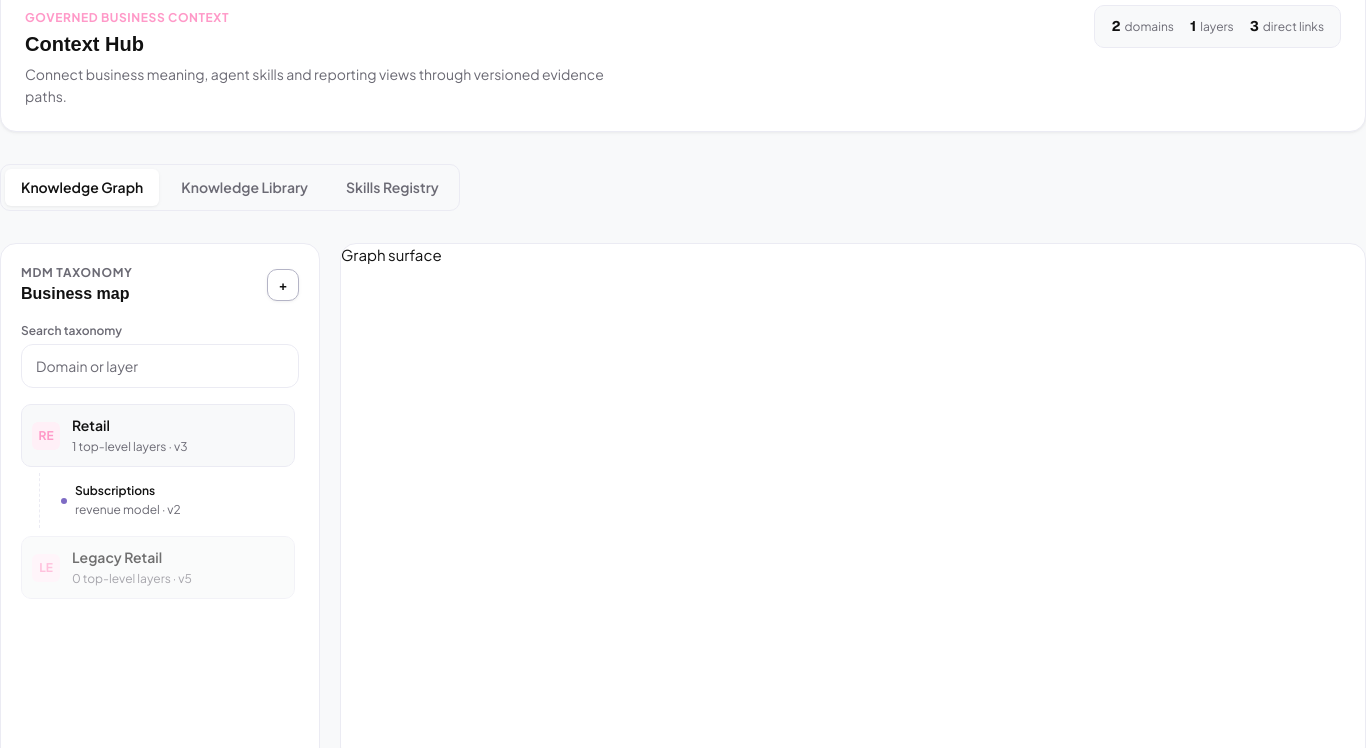
it: a refused link is reported as a refusal to overwrite, not as a failure to save
The width and height of the screenshot is (1366, 748).
Click the button "RE Retail 1 top-level layers · v3": coordinates (91, 425) [21, 404, 295, 467]
(page scrolled)
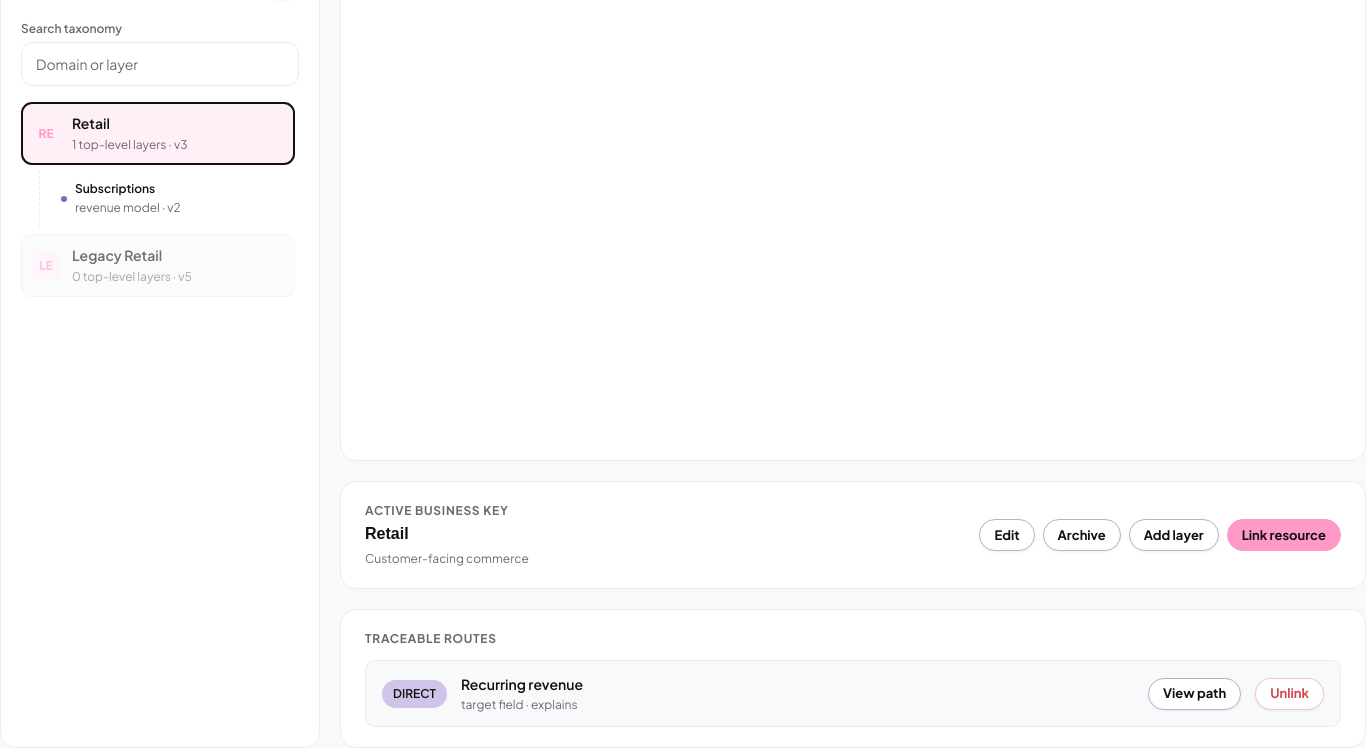
Click the button "Link resource": coordinates (1284, 535) [1227, 519, 1341, 551]
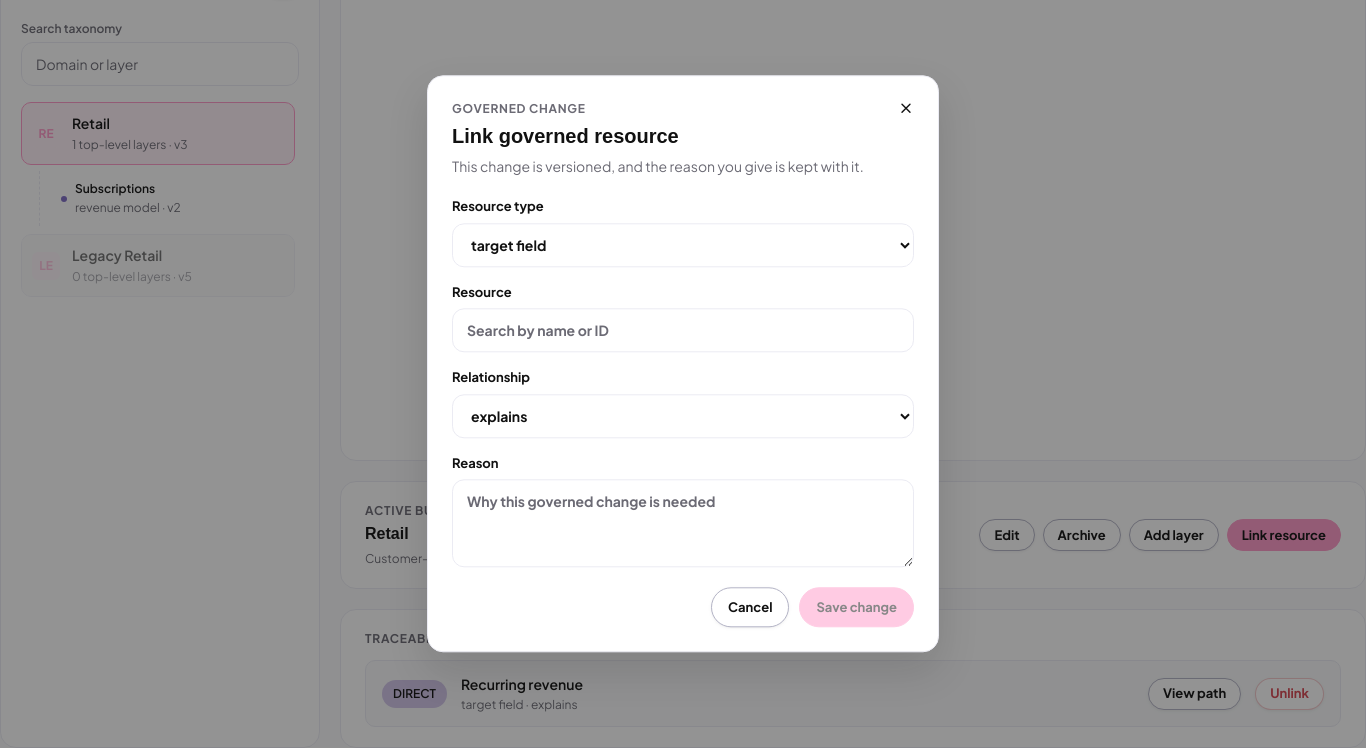
In the field labelled "Resource": coordinates (683, 331) [452, 309, 914, 353], type "recurring_revenue"
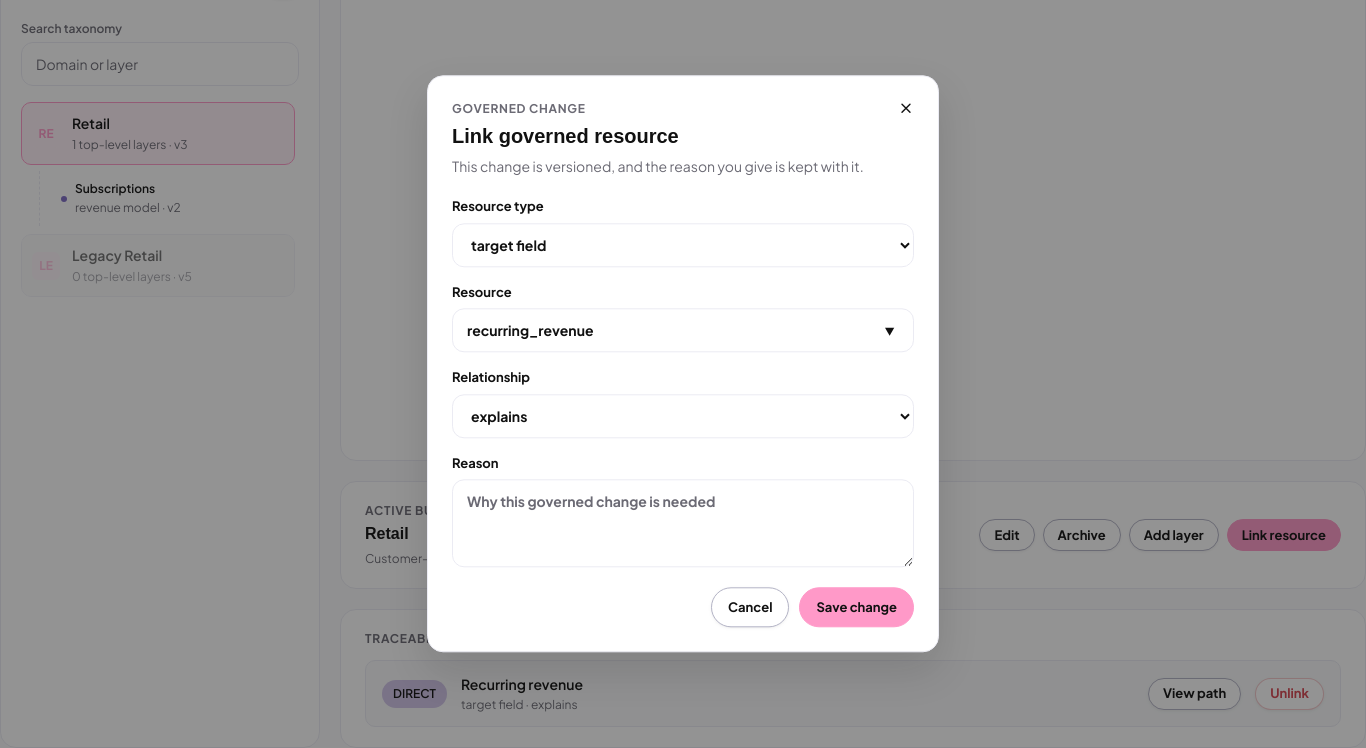
In the text box labelled "Reason": coordinates (683, 524) [452, 480, 914, 568], type "It explains this field"
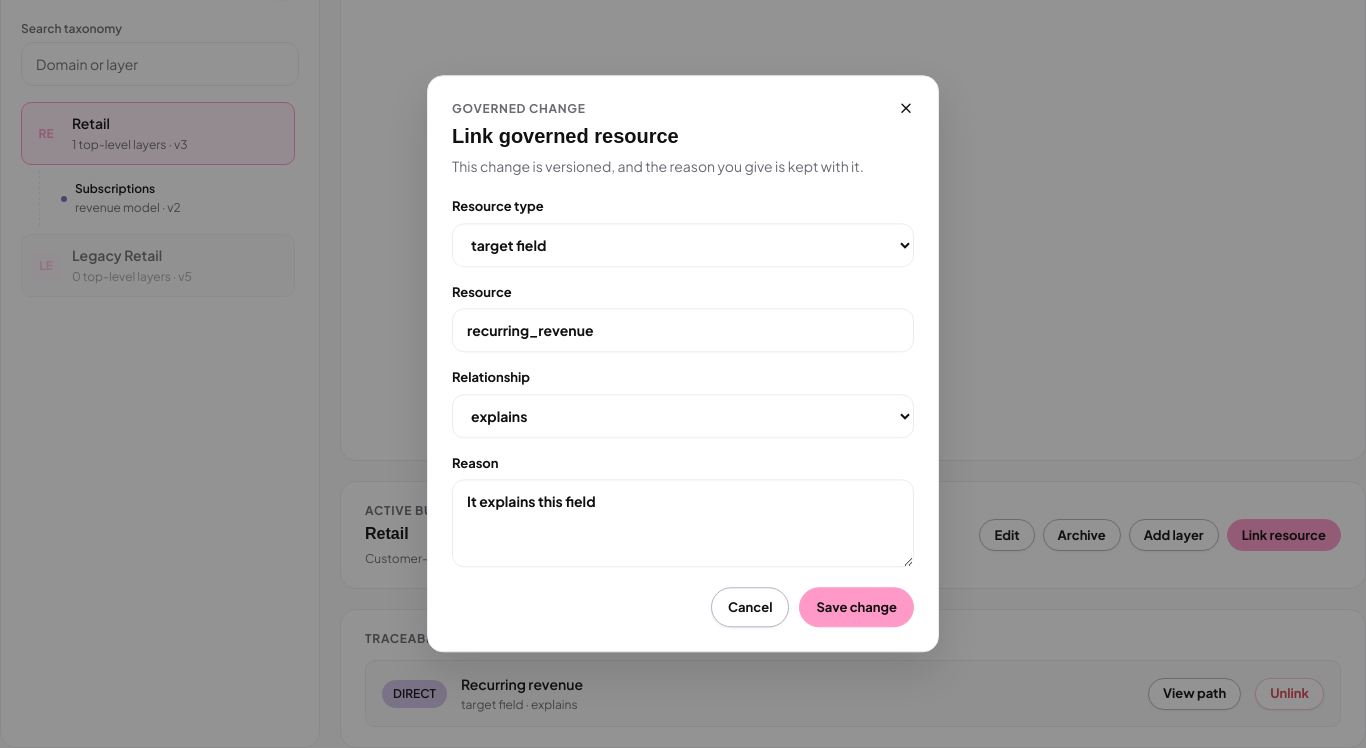
Click the button "Save change": coordinates (857, 608) [799, 588, 914, 628]
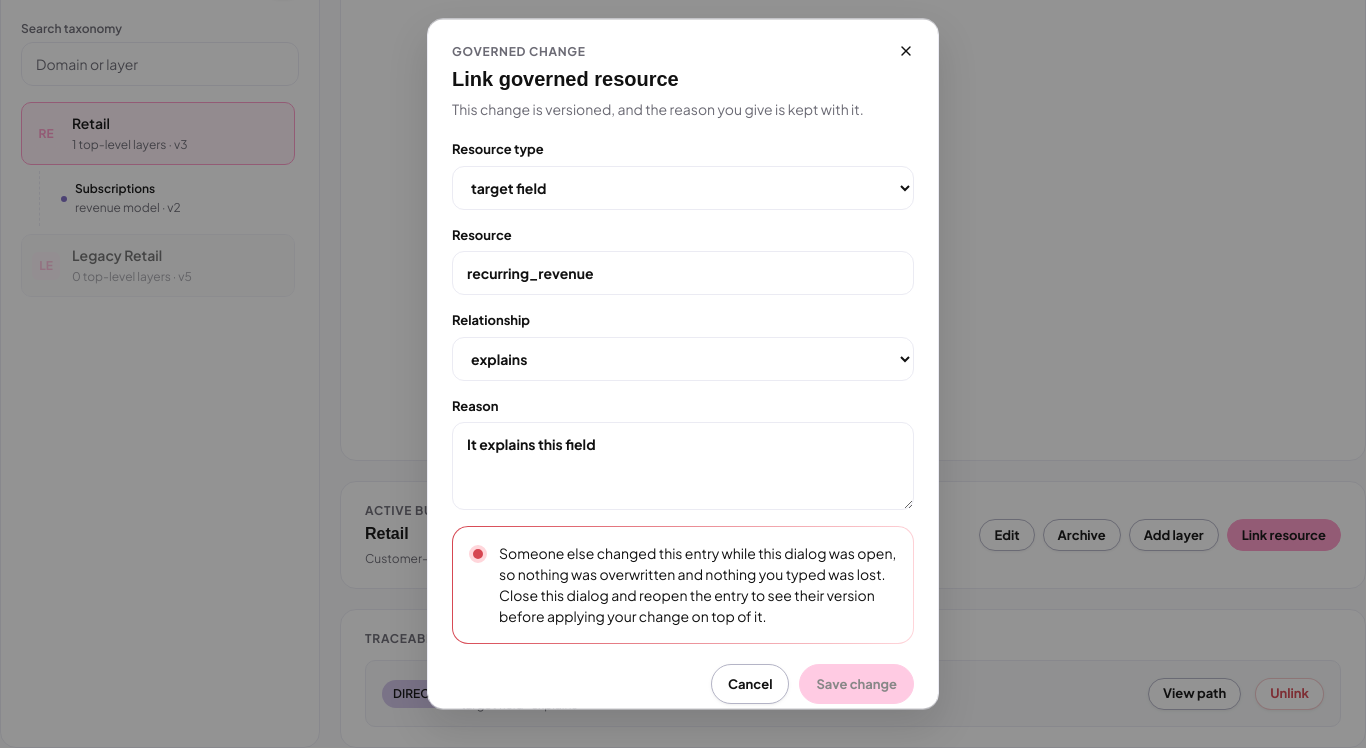
expect the text "nothing was overwritten" is shown: met, box [499, 545, 896, 626]
